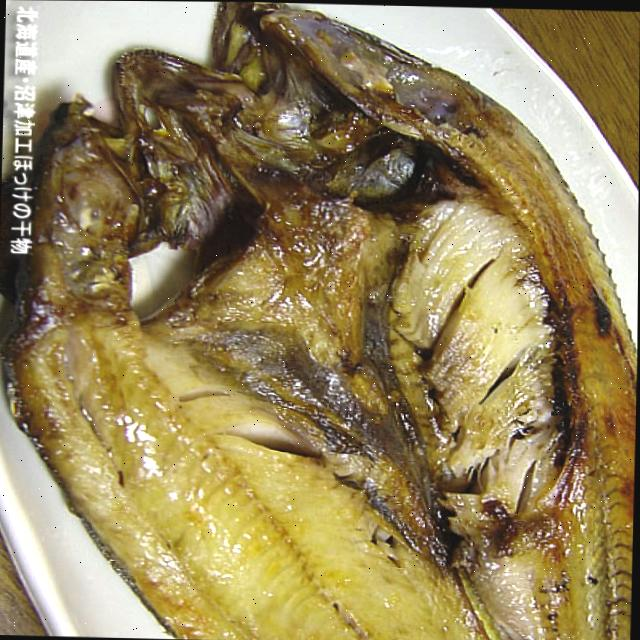熟制海鲜: (27, 0, 640, 640)
